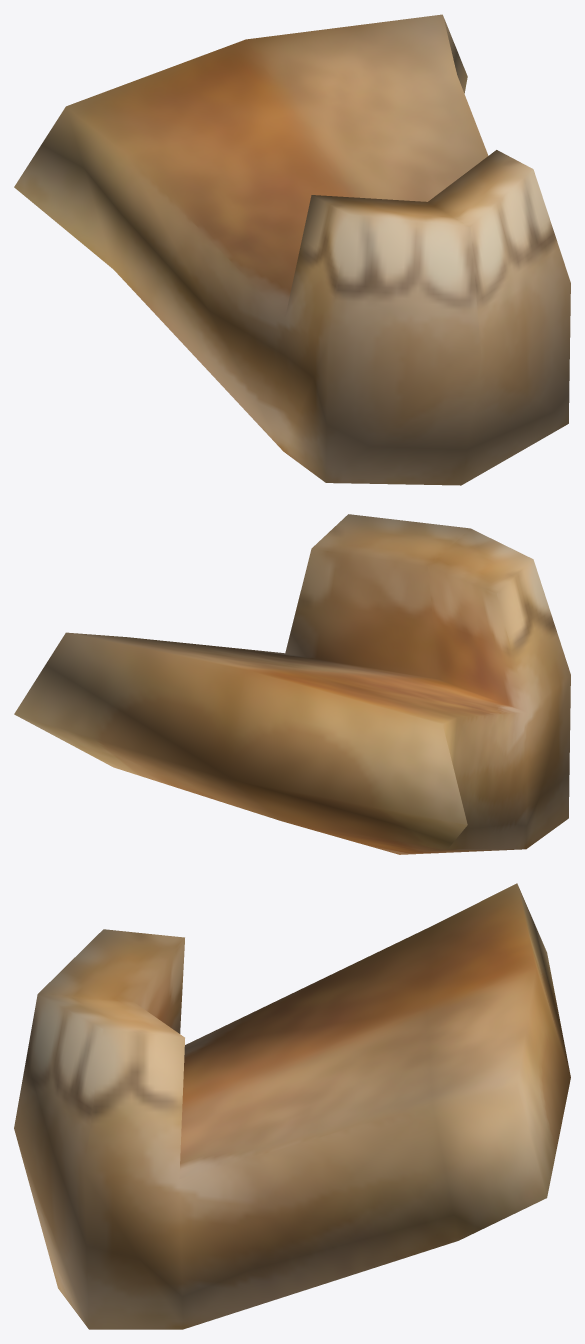
File: skeleton.003.fbx
3 views of the same model, one above another, from view 1: azimuth 30°, elevation 25°; view 2: azimuth 150°, elevation 25°; view 3: azimuth 270°, elevation 25° (orthographic). The views are drawn at different scales.
Parts seen in each view (by area): view 1: skeleton.003; view 2: skeleton.003; view 3: skeleton.003.
Part boxes in pixels (x1,y1,x2,y2): skeleton.003: [14, 14, 570, 485]; skeleton.003: [14, 514, 570, 854]; skeleton.003: [14, 883, 570, 1329].
Size of the model in its own units: 28.06 by 17.58 by 26.9.
